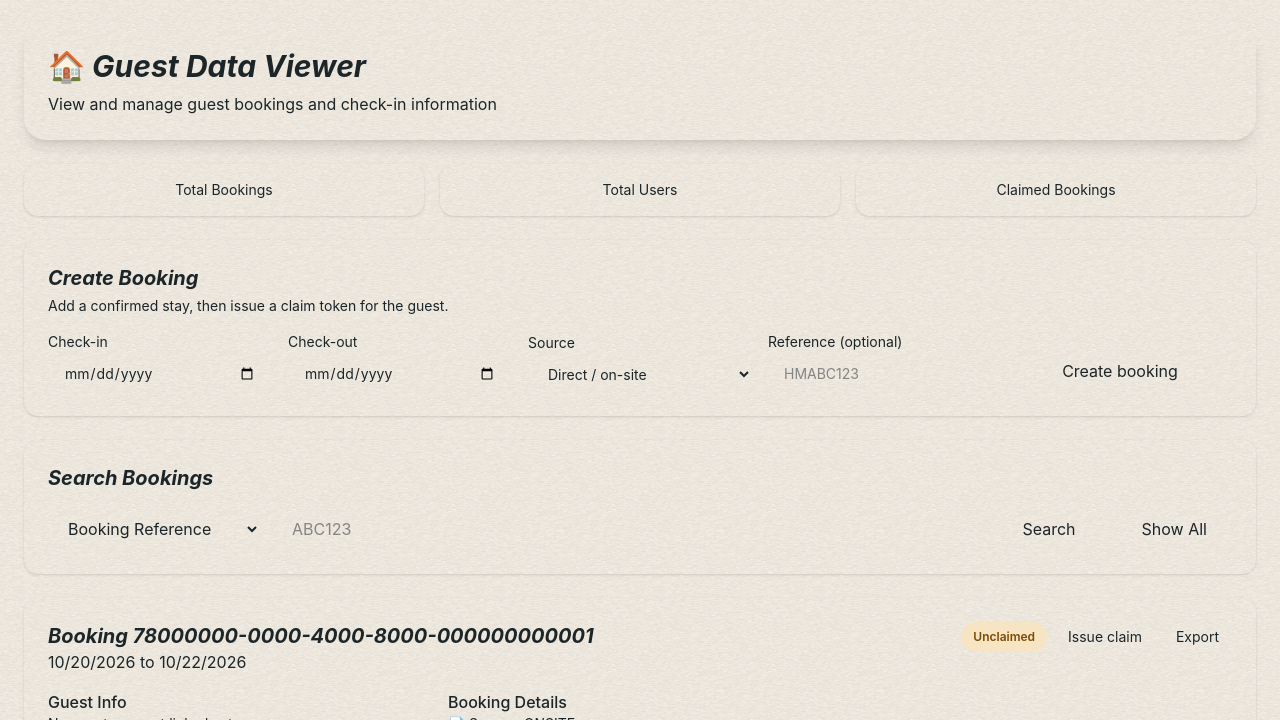
it: admin claim token copy › confirms a successful copy
This screenshot has width=1280, height=720.
Click the button "Issue claim" at (1105, 637), box [1055, 622, 1155, 652]
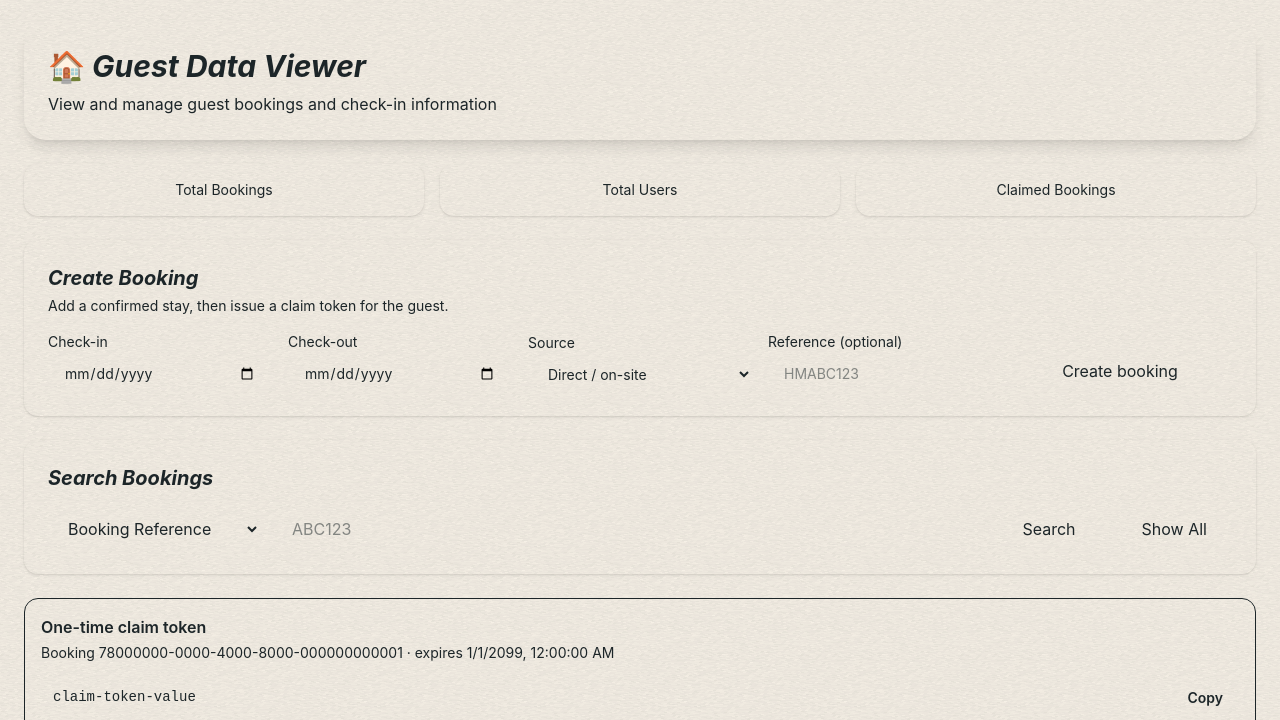
expect the text "claim-token-value" is shown: met, box [53, 689, 196, 705]
Click the button "Copy" at (1205, 697), box [1171, 675, 1239, 719]
(page scrolled)
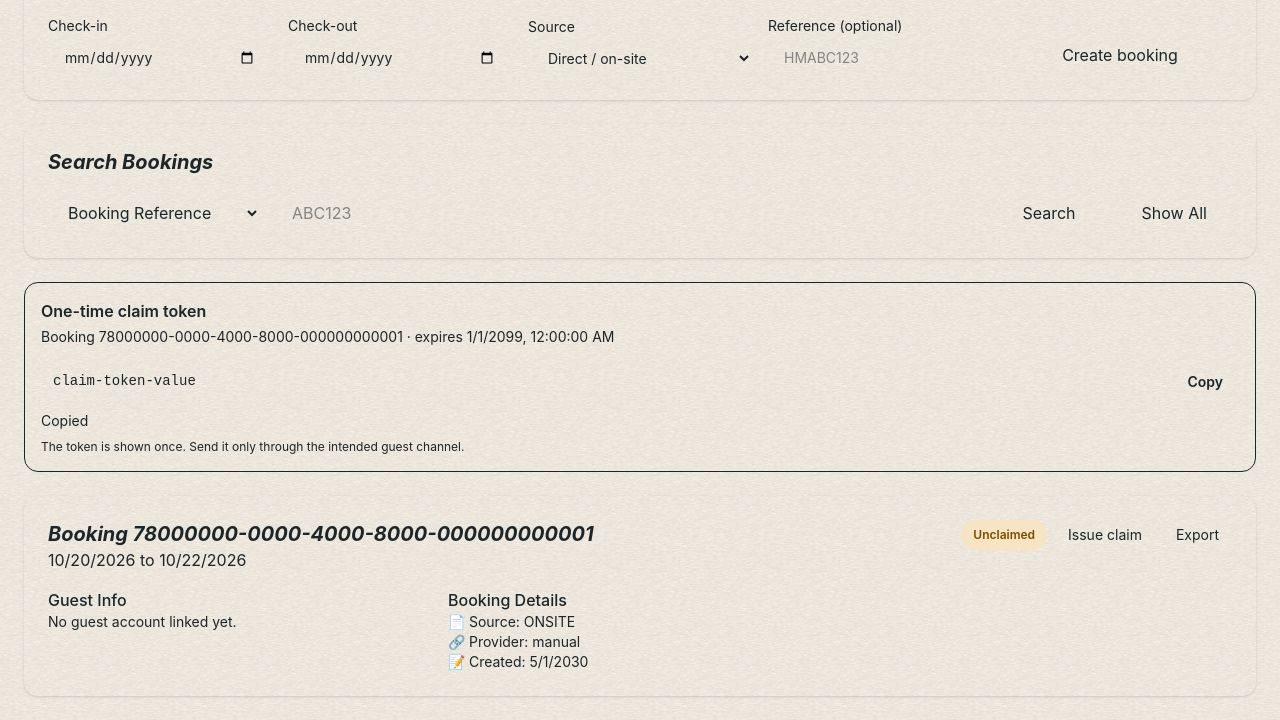
expect the text "Copied" is shown: met, box [41, 412, 88, 429]
